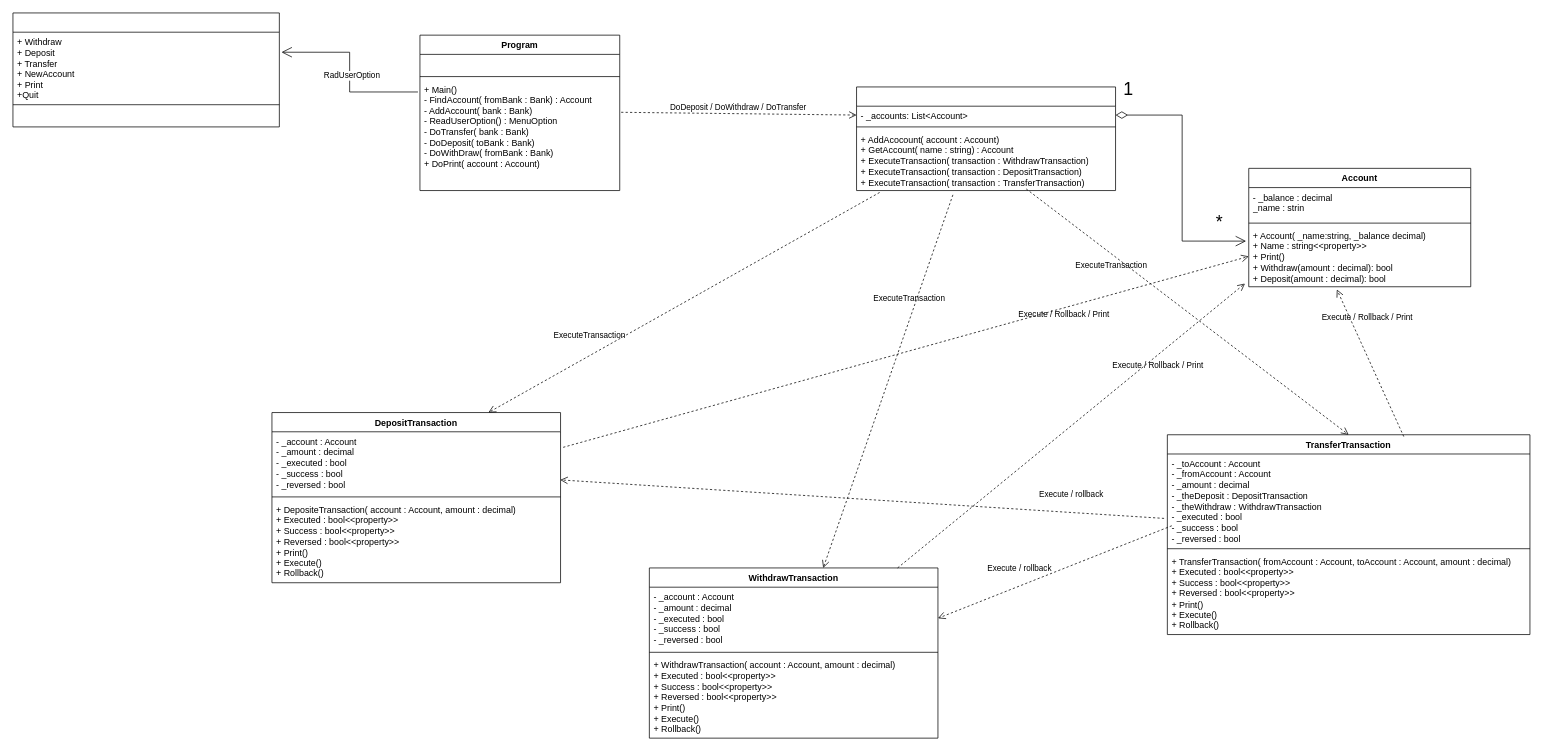
Some shapes in this 1543 by 753 pixel diagram are drawn without their labels. The shapes that lost their labels are listed below. From the top down, each one's box as (x1, y1, x2, y2) in pixels, then its label:
(12, 12, 279, 127): MenuOption<<enumeration>>
(856, 86, 1116, 191): Bank
